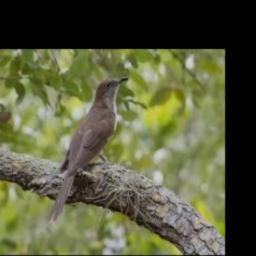Cuckoo: (46, 76, 129, 225)
